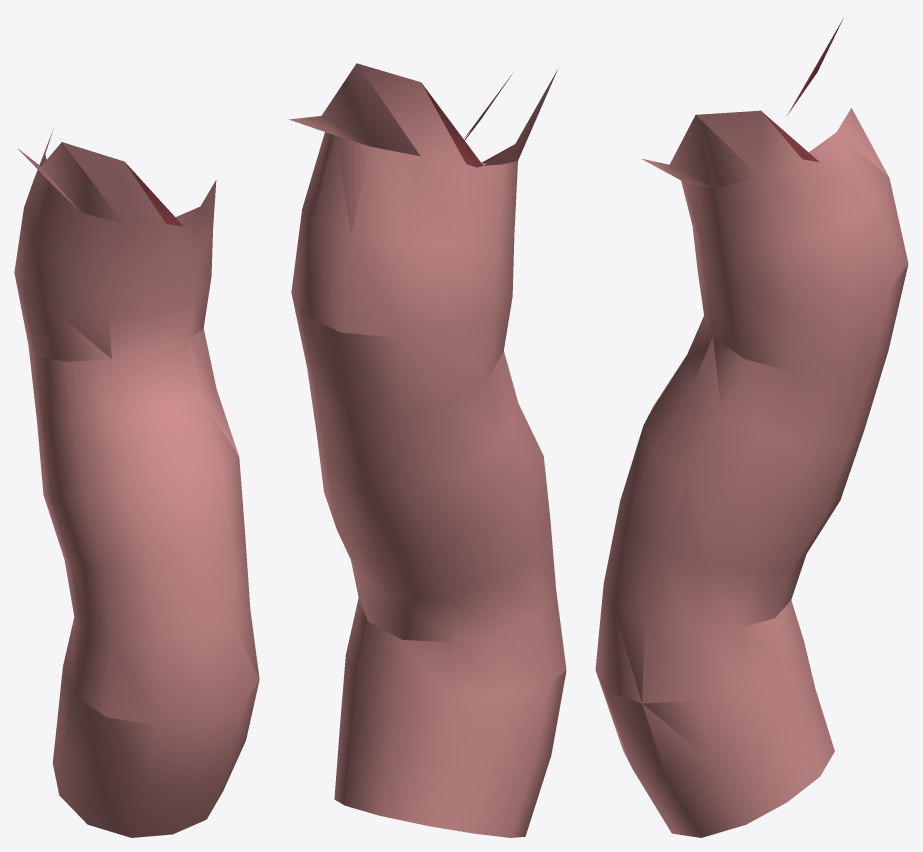
File: gut_torn.glb
The picture shows the model from 3 angles, left to right: view 1: azimuth 30°, elevation 25°; view 2: azimuth 150°, elevation 25°; view 3: azimuth 270°, elevation 25°; orthographic projection. The views are drawn at different scales.
Visible parts, largest first — view 1: OUT; view 2: OUT; view 3: OUT.
Boxes of the visible parts, x1,y1,x2,y2 form: OUT: (14,128,259,837); OUT: (288,63,566,837); OUT: (595,18,908,837).
Bounding box in the file's own units: 0.0668 × 0.2467 × 0.0876.
